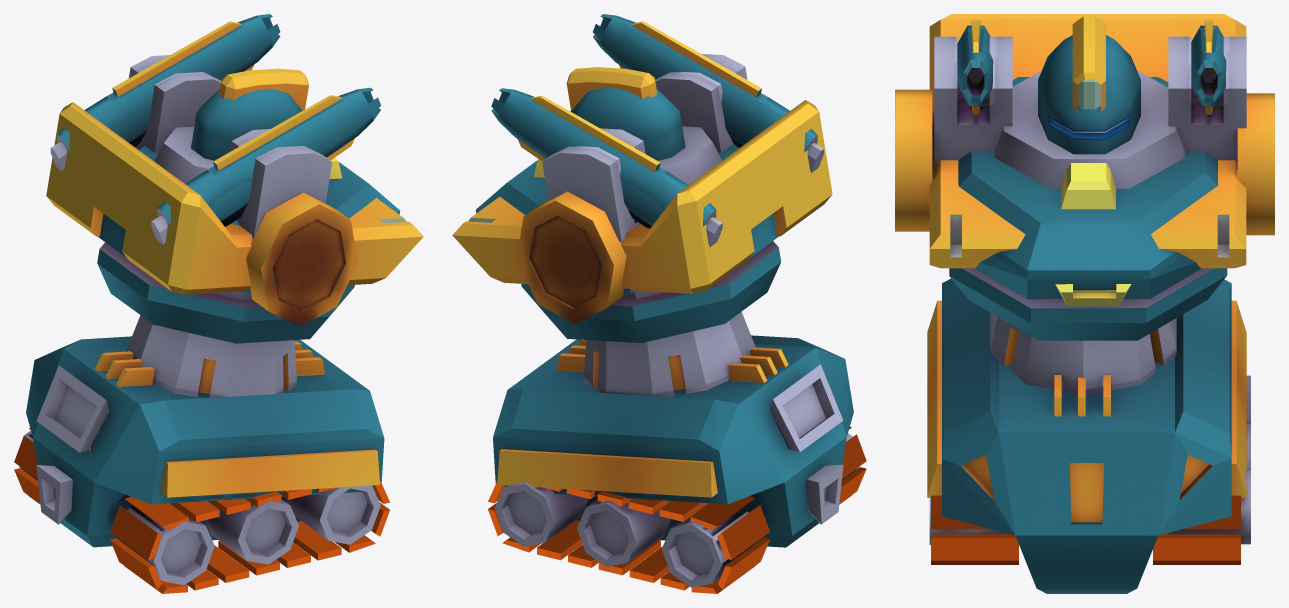
Rendered from Player_Move3.obj.
3 renders of one model, left to right at view 1: azimuth 30°, elevation 25°; view 2: azimuth 150°, elevation 25°; view 3: azimuth 270°, elevation 25°, orthographic. The views are drawn at different scales.
Visible parts, largest first — view 1: Object004, Object014, Box009, Box017, Box016; view 2: Object004, Object014, Box009, Box016, Box017; view 3: Object004, Object014, Box017, Box016, Box009.
Part boxes in pixels (x1,y1,x2,y2): Object004: (26,55,423,547); Object014: (50,14,380,245); Box009: (19,430,380,585); Box017: (110,480,389,593); Box016: (14,428,91,504); Object004: (452,54,853,547); Object014: (491,14,823,246); Box009: (494,433,859,587); Box016: (488,481,769,593); Box017: (839,427,866,504); Object004: (895,14,1274,593); Object014: (957,20,1226,114); Box017: (931,495,1018,564); Box016: (1153,495,1240,564); Box009: (929,375,1250,544).
Size of the model in its own units: 60.24 by 82.24 by 52.49.
